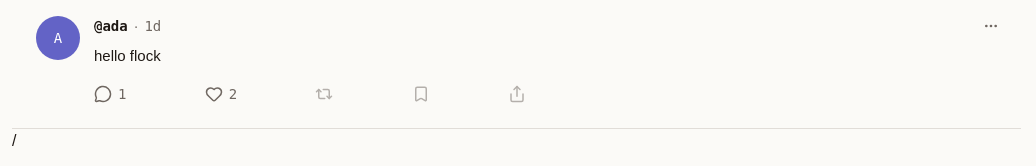
Test: PostCard › gives your own post a "More options" menu with Delete, without opening the post
The width and height of the screenshot is (1036, 166).
Click the button named "More options": (991, 26) [977,12,1005,40]
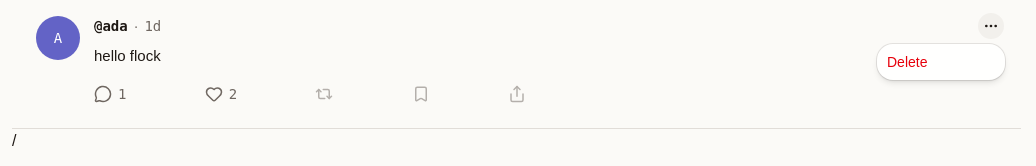
Expected: the text with test id "location" reads "/", [12,132,16,149]
Expected: the menu item "Delete" is shown, [887,54,928,70]
